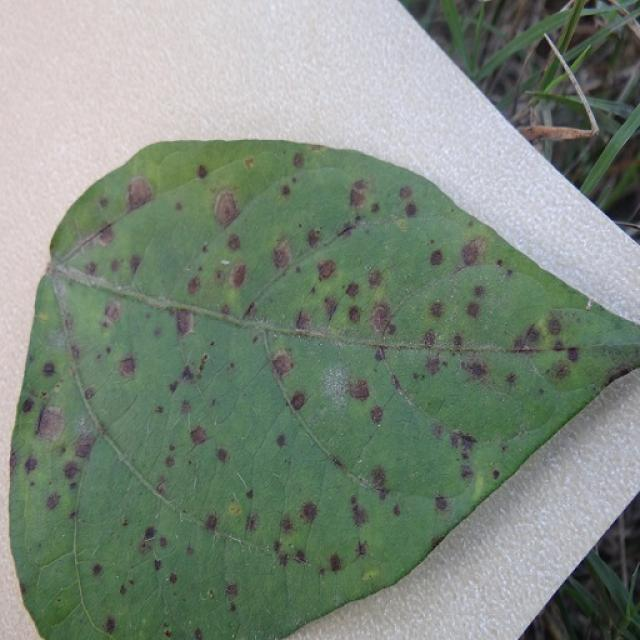Anthracnose: (517, 123, 597, 143), (34, 403, 67, 442), (213, 190, 240, 229), (126, 176, 155, 210), (267, 345, 295, 379), (460, 236, 488, 267), (602, 363, 635, 388), (72, 429, 97, 460), (449, 429, 477, 456), (369, 304, 392, 335), (348, 179, 370, 210), (272, 239, 293, 269), (349, 496, 369, 527), (518, 324, 542, 349), (101, 300, 122, 328), (286, 325, 325, 340), (347, 378, 371, 402), (228, 261, 248, 289), (549, 359, 572, 381), (299, 500, 318, 525), (507, 344, 554, 354), (178, 309, 195, 336), (316, 258, 336, 280), (97, 224, 116, 247), (118, 356, 136, 379), (62, 461, 81, 482), (466, 360, 487, 379), (295, 309, 312, 332), (370, 467, 387, 490), (322, 296, 338, 320), (190, 425, 208, 446), (425, 356, 442, 377), (306, 227, 322, 249), (290, 391, 307, 411), (546, 316, 563, 335), (428, 300, 445, 319), (368, 268, 384, 288), (279, 515, 295, 535), (335, 223, 355, 239), (422, 329, 438, 348), (226, 233, 242, 252), (45, 492, 61, 511), (369, 405, 384, 425), (187, 275, 201, 296), (129, 253, 143, 274), (465, 301, 481, 319), (347, 305, 362, 324), (243, 301, 258, 320), (23, 455, 38, 474), (245, 513, 259, 533), (344, 281, 360, 298), (41, 361, 57, 378), (429, 249, 444, 267), (362, 567, 380, 582), (204, 512, 218, 531), (329, 553, 342, 573), (227, 500, 242, 517), (21, 396, 35, 414), (197, 353, 209, 374), (459, 464, 474, 480), (215, 447, 229, 464), (355, 540, 368, 558), (398, 185, 413, 200), (566, 346, 580, 362), (404, 202, 418, 218), (435, 495, 449, 511), (292, 152, 305, 169), (104, 617, 116, 635), (83, 385, 97, 400), (180, 399, 192, 416), (472, 284, 486, 298), (294, 549, 307, 564), (196, 164, 209, 179), (394, 218, 409, 231), (374, 346, 386, 362), (225, 583, 238, 597), (505, 372, 518, 386), (144, 526, 156, 541), (156, 480, 168, 495), (275, 433, 287, 448), (91, 563, 103, 577), (452, 333, 463, 348), (162, 623, 173, 638), (244, 156, 256, 169), (37, 310, 50, 322), (168, 380, 179, 394), (280, 184, 291, 197), (153, 558, 163, 572), (169, 573, 178, 585), (194, 627, 203, 639), (245, 488, 254, 500), (119, 584, 128, 596), (154, 405, 164, 414), (492, 469, 500, 480), (207, 589, 215, 599), (194, 633, 203, 640)
Blackgram: (11, 141, 639, 639)
